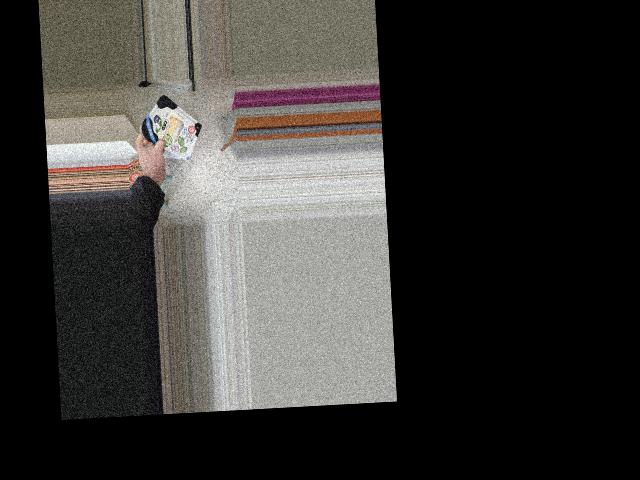cheese: (136, 94, 209, 158)
